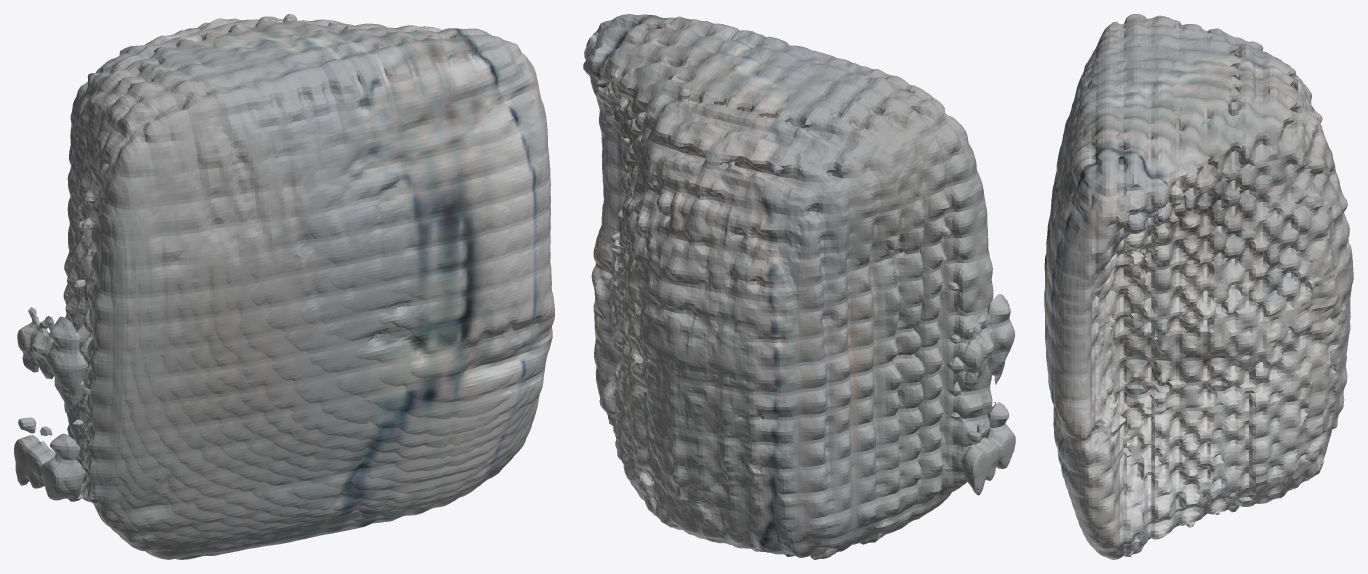
The model's file is gen_ad6d2d28.glb.
3 renders of one model, left to right at view 1: azimuth 30°, elevation 25°; view 2: azimuth 150°, elevation 25°; view 3: azimuth 270°, elevation 25°, orthographic. The views are drawn at different scales.
Parts seen in each view (by area): view 1: world; view 2: world; view 3: world.
Boxes of the visible parts, <box> form: world: <box>14,14,554,559</box>; world: <box>583,14,1015,559</box>; world: <box>1044,14,1353,559</box>.
Bounding box in the file's own units: 0.9661 × 0.9372 × 0.6057.
